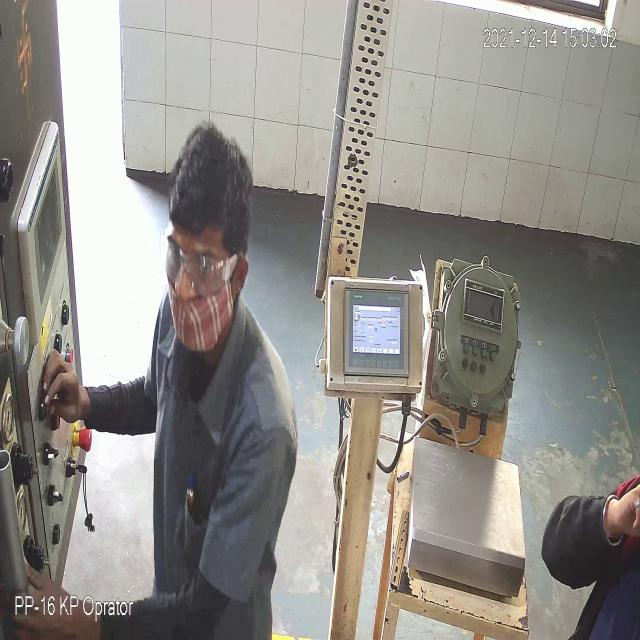glasses: (158, 228, 239, 292)
